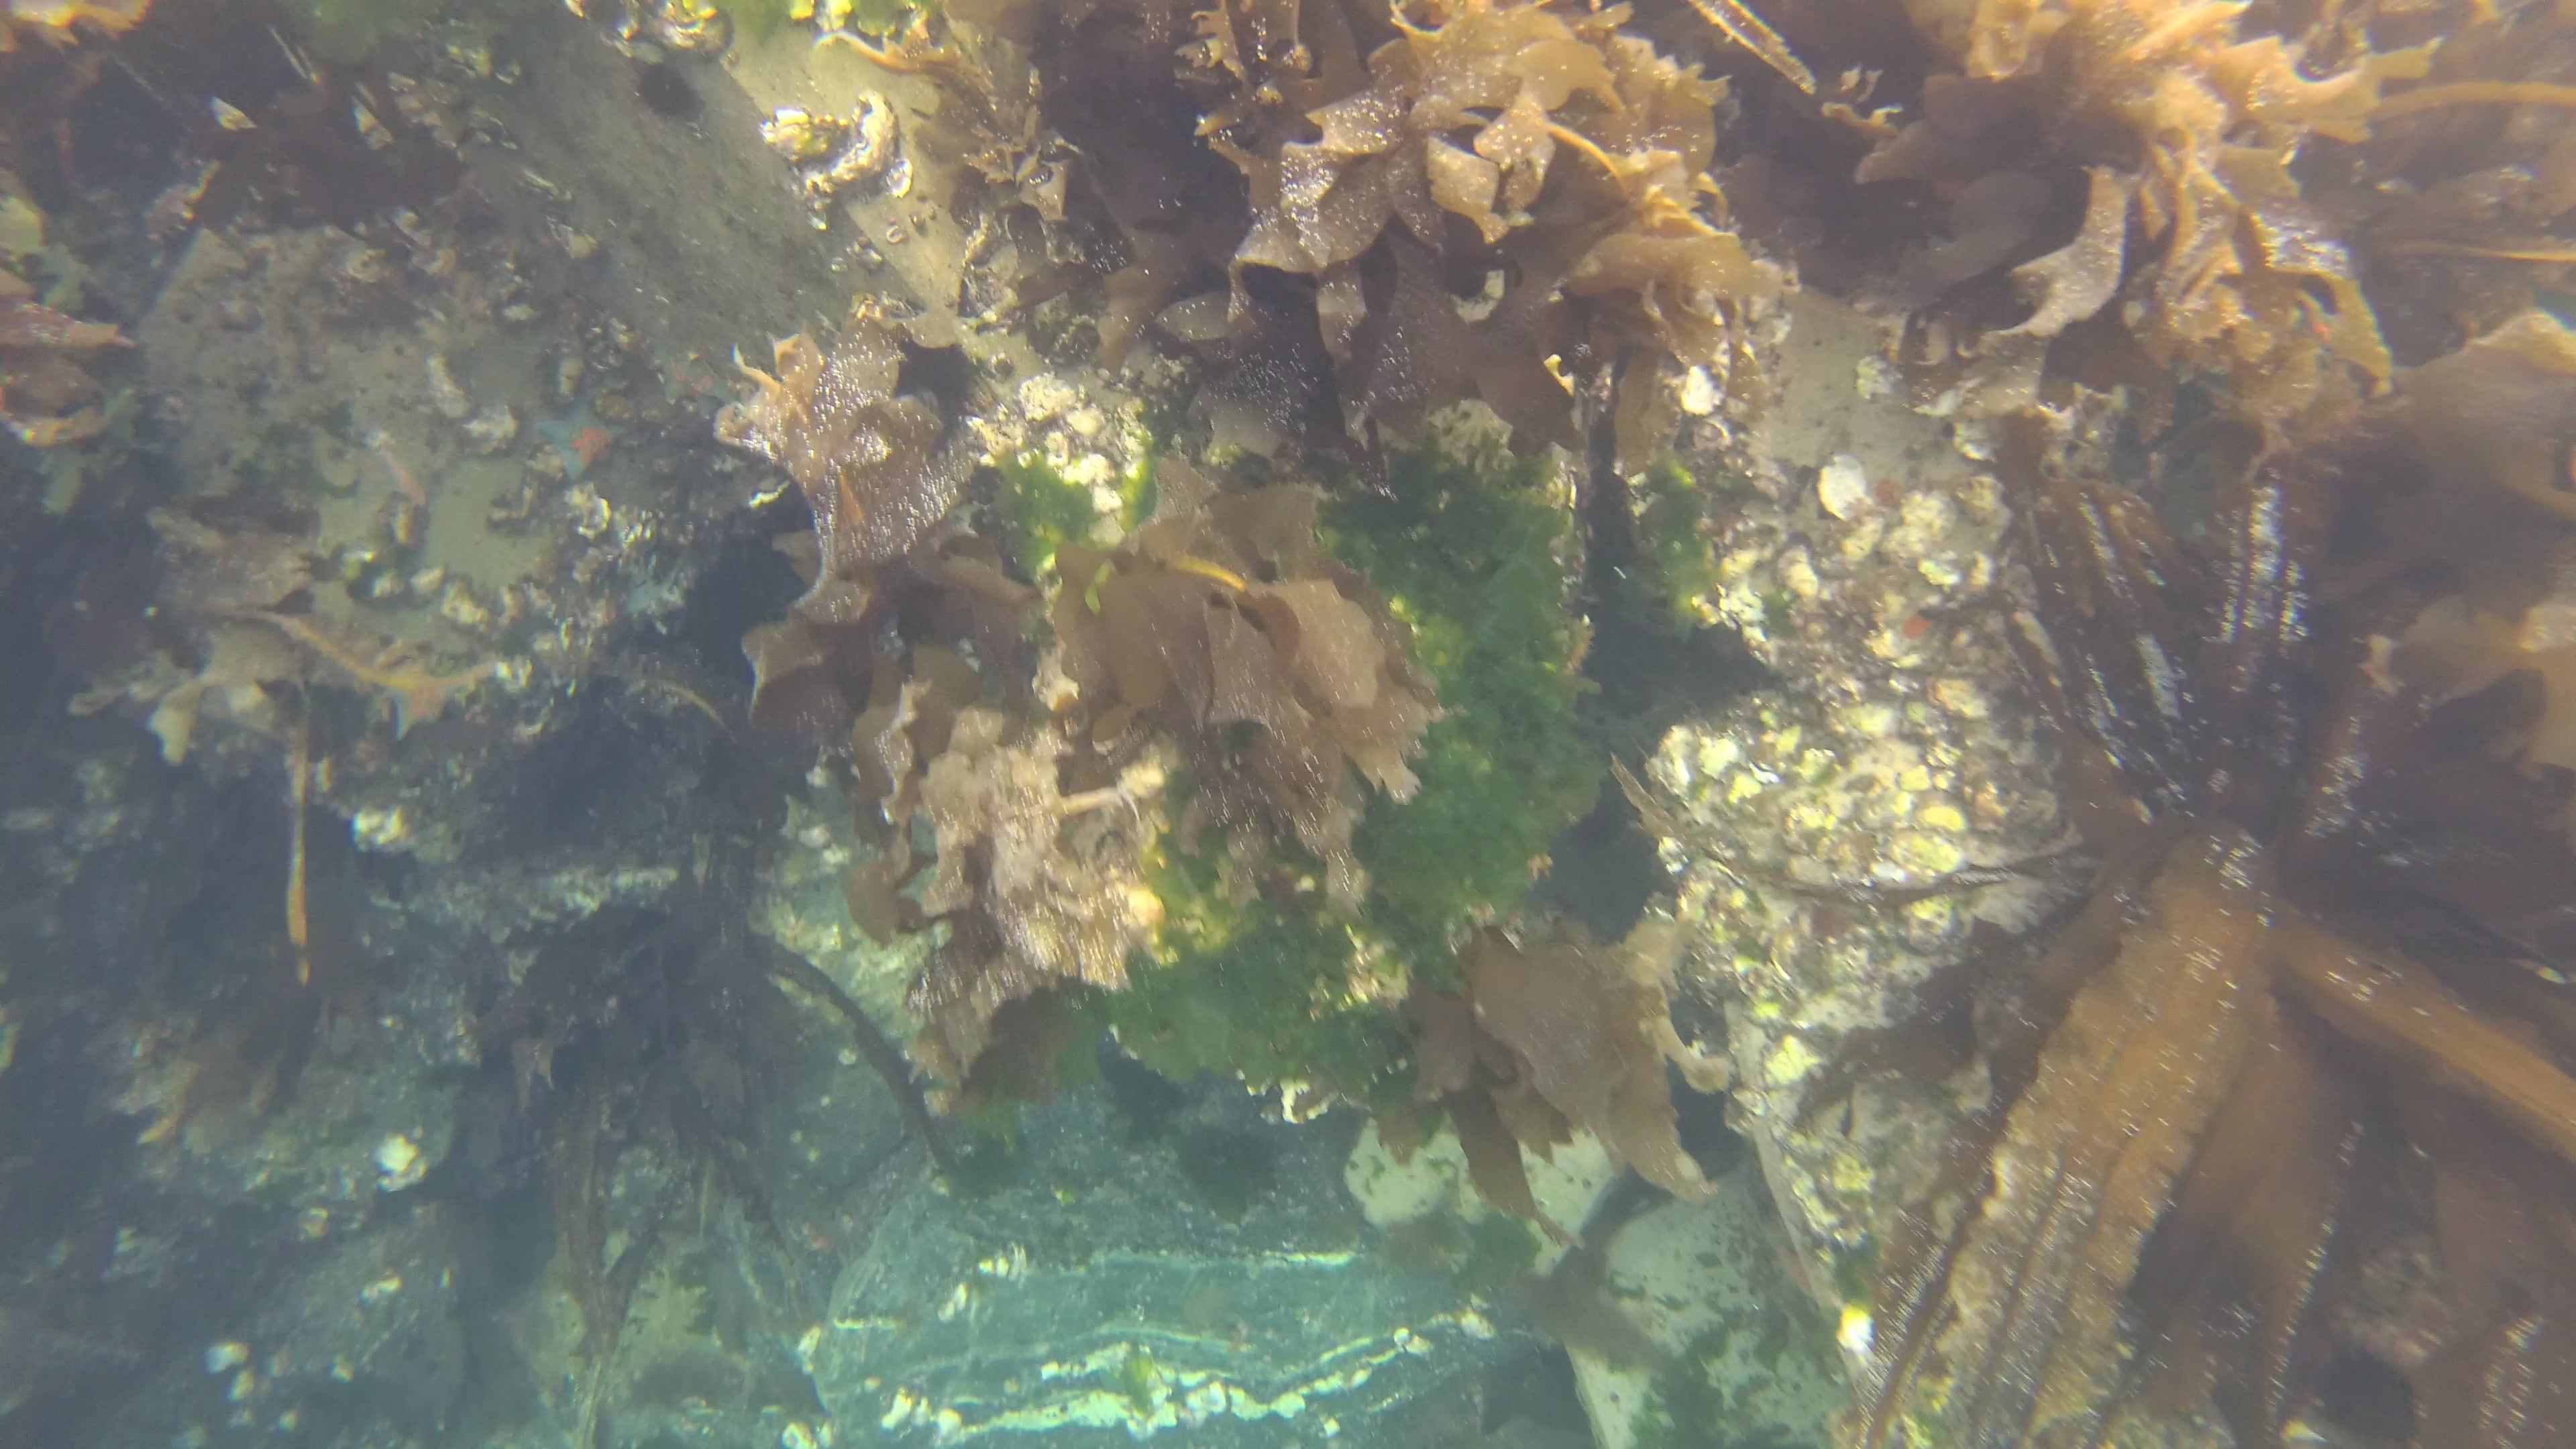echinus: (2307, 1336, 2424, 1449), (890, 336, 982, 453), (639, 62, 695, 124)
holothurian: (586, 1251, 711, 1428)
starfish: (534, 391, 630, 485), (380, 655, 462, 740)
